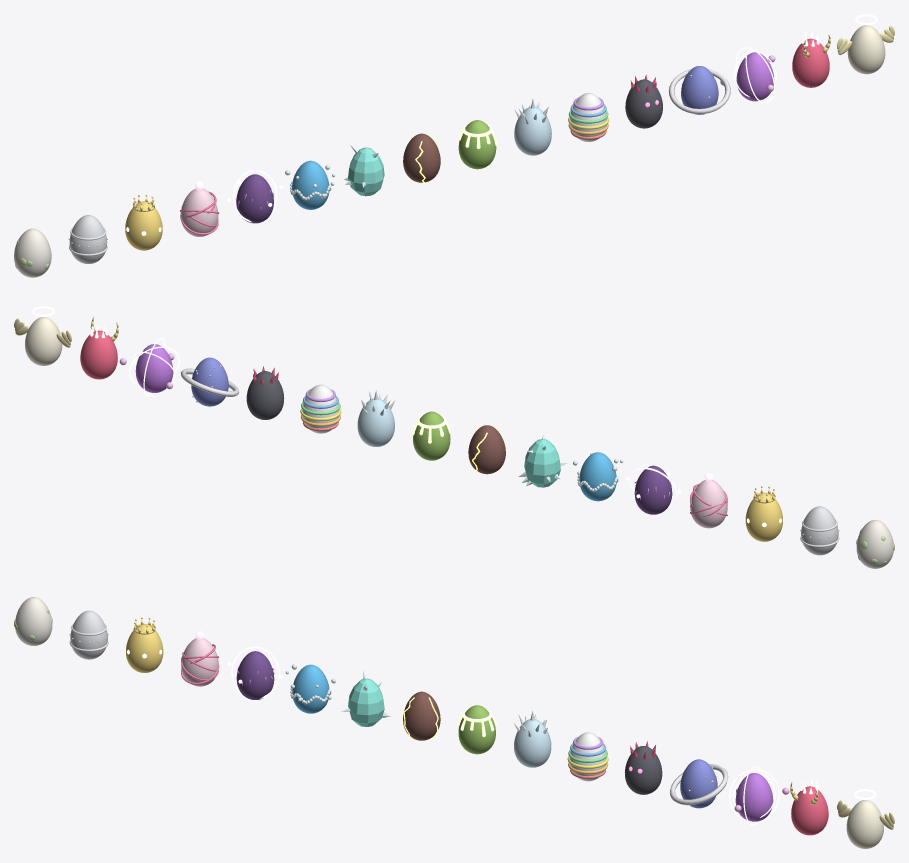
The model's file is CustomEggs.fbx.
The picture shows the model from 3 angles, top to bottom: view 1: azimuth 30°, elevation 25°; view 2: azimuth 150°, elevation 25°; view 3: azimuth 330°, elevation 25°; orthographic projection.
Parts seen in each view (by area): view 1: Divine_Body, Void_Body, Lava_Body, Frost_Body, Shadow_Body, Common_Body, Golden_Body, Mythic_Body, Galaxy_Body, Gem_Body, Silver_Body, Cosmic_Body (+5 smaller); view 2: Mythic_Body, Divine_Body, Shadow_Body, Lava_Body, Frost_Body, Void_Body, Common_Body, Galaxy_Body, Golden_Body, Gem_Body, Silver_Body, Candy_Body (+4 smaller); view 3: Divine_Body, Void_Body, Common_Body, Frost_Body, Lava_Body, Galaxy_Body, Shadow_Body, Gem_Body, Mythic_Body, Golden_Body, Silver_Body, Ocean_Body (+6 smaller).
Part boxes in pixels (x1,y1,x2,y2): Divine_Body: (847,25,885,74); Void_Body: (236,174,273,223); Lava_Body: (403,133,440,182); Frost_Body: (514,107,551,155); Shadow_Body: (625,79,662,128); Common_Body: (14,228,51,277); Golden_Body: (125,201,162,250); Mythic_Body: (792,38,829,87); Galaxy_Body: (736,52,774,101); Gem_Body: (348,147,384,196); Silver_Body: (69,215,107,263); Cosmic_Body: (681,66,718,114); Mythic_Body: (80,330,117,379); Divine_Body: (25,317,62,365); Shadow_Body: (246,371,284,419); Lava_Body: (468,425,505,474); Frost_Body: (357,398,394,446); Void_Body: (634,465,672,514); Common_Body: (856,520,893,568); Galaxy_Body: (135,344,173,392); Golden_Body: (745,492,782,541); Gem_Body: (524,439,560,487); Silver_Body: (801,506,838,555); Candy_Body: (690,480,727,528); Divine_Body: (846,800,883,848); Void_Body: (236,651,274,699); Common_Body: (15,597,52,645); Frost_Body: (514,719,551,767); Lava_Body: (403,691,440,740); Galaxy_Body: (735,773,773,821); Shadow_Body: (624,746,662,794); Gem_Body: (348,678,384,726); Mythic_Body: (791,786,828,835); Golden_Body: (126,624,163,672); Silver_Body: (70,610,107,659); Ocean_Body: (292,664,329,713).
Bounding box in the file's own units: 7908 × 504 × 524.
